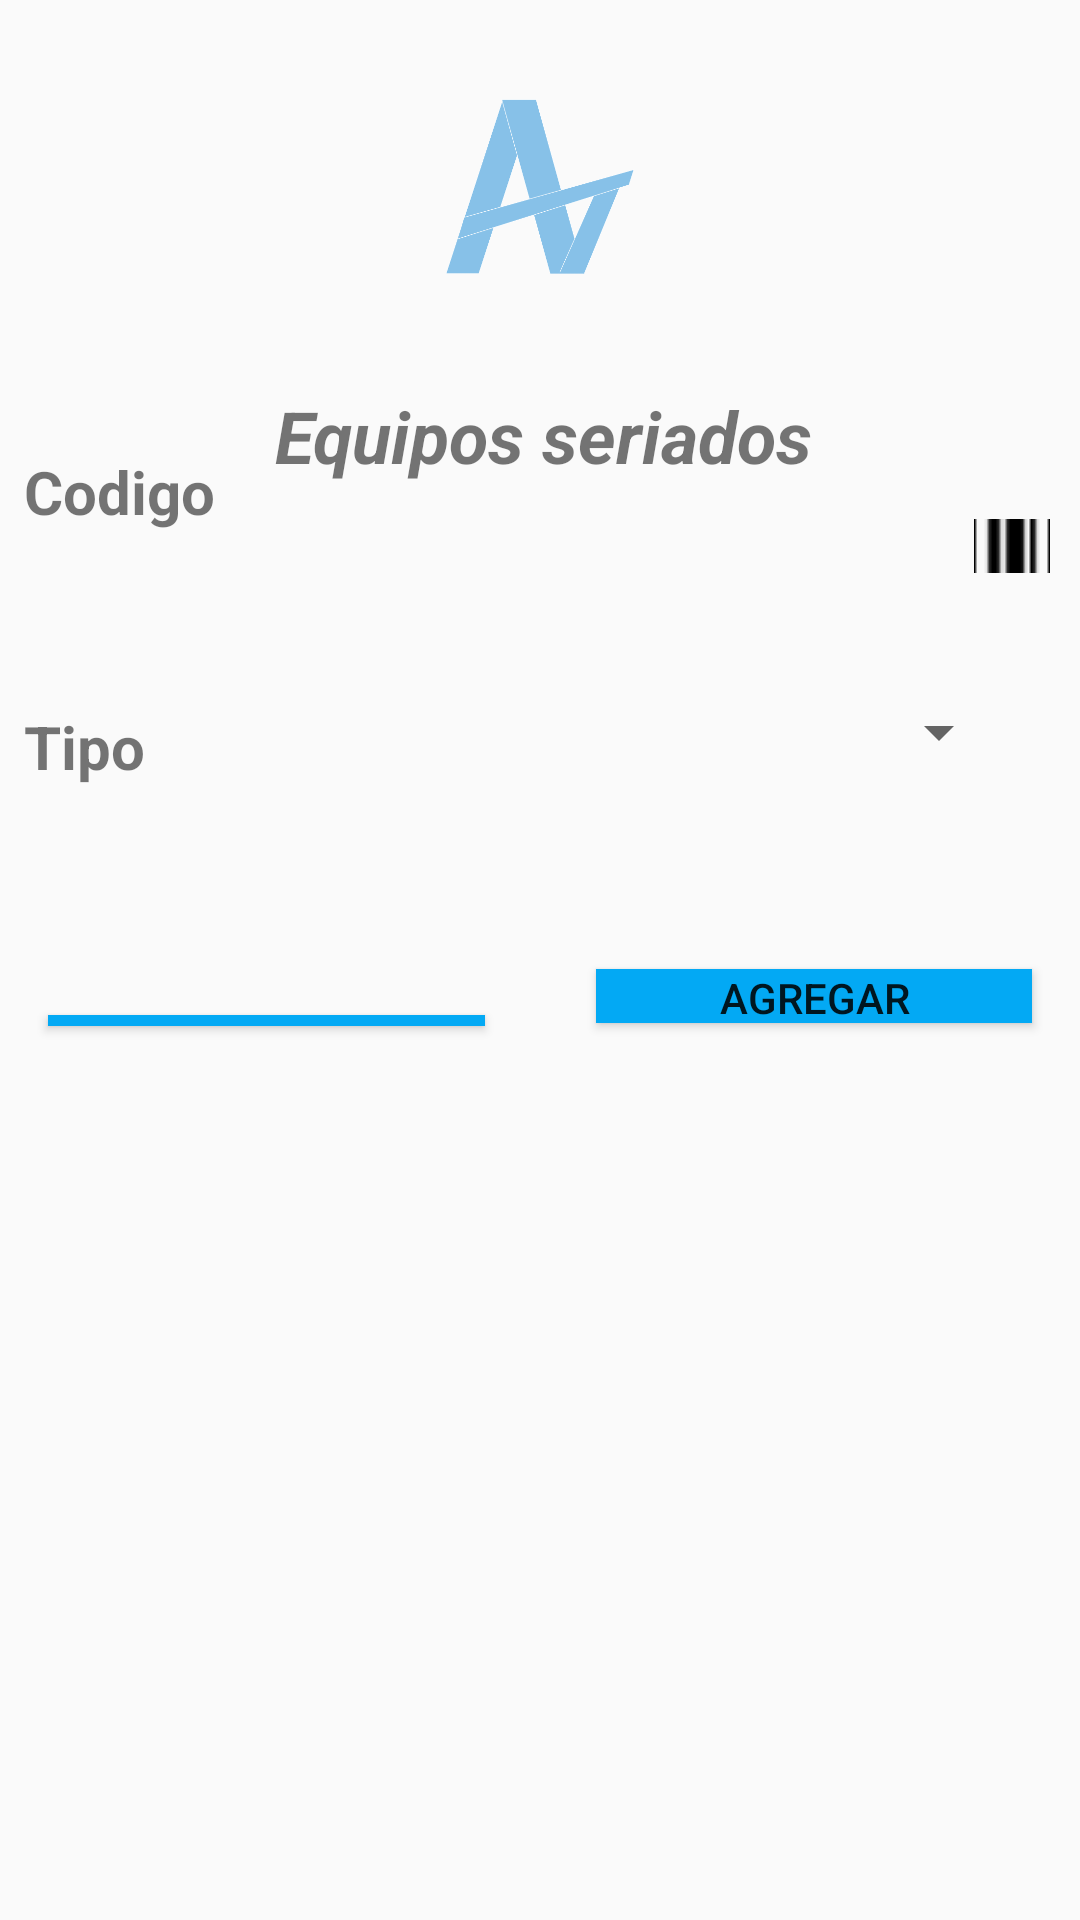

Screen size 1080×1920. Icon name, then its box in pixels as box=[x1, y1, x2, y2]:
lectura de codigo barras: box=[974, 519, 1050, 573]
